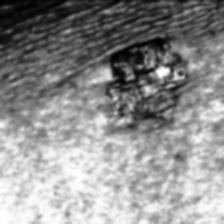Potentially Malignant Skin Tumors: (104, 38, 187, 130)
